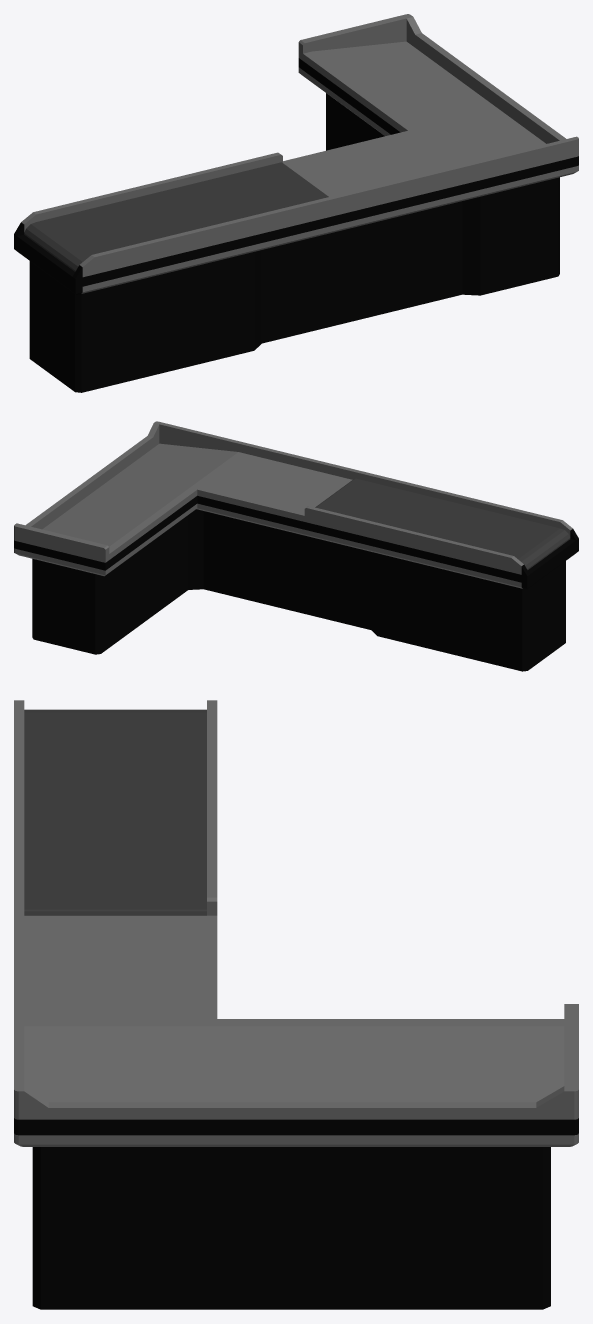
File: Ma_Reception.fbx
3 renders of one model, top to bottom at view 1: azimuth 30°, elevation 25°; view 2: azimuth 150°, elevation 25°; view 3: azimuth 270°, elevation 25°, orthographic. The views are drawn at different scales.
Parts seen in each view (by area): view 1: Ma_Reception; view 2: Ma_Reception; view 3: Ma_Reception.
Part boxes in pixels (x1,y1,x2,y2): Ma_Reception: (14,14,578,392); Ma_Reception: (14,421,578,671); Ma_Reception: (14,700,578,1309).
Bounding box in the file's own units: 3153 × 1852 × 824.
